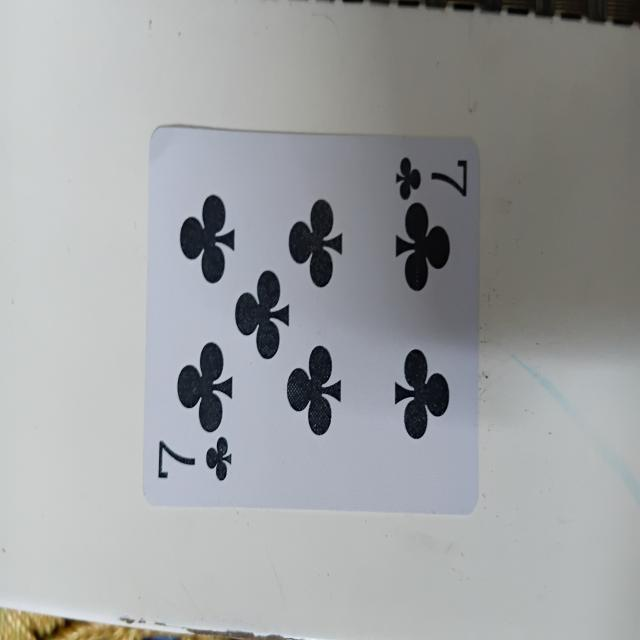7C: (141, 137, 479, 516)
